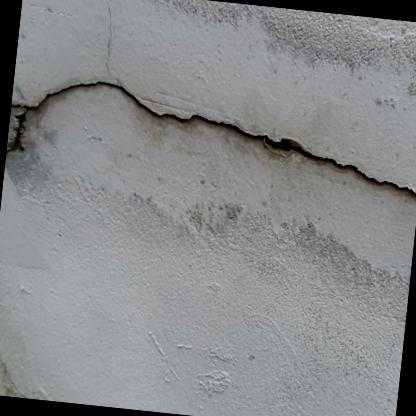crack: (4, 79, 416, 200)
